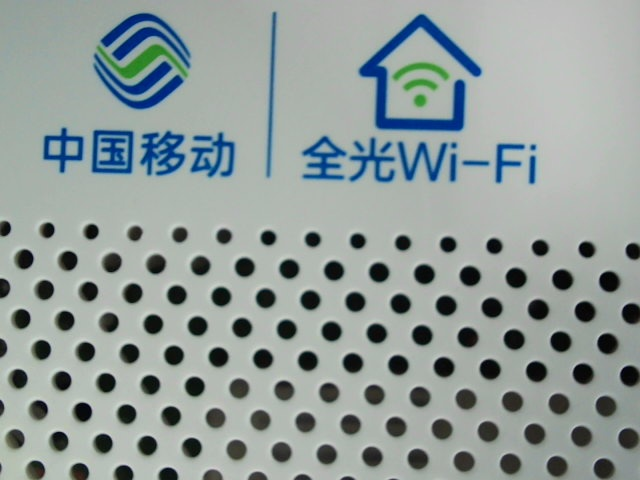BJ_QuanGuangMobile: (37, 7, 545, 186)
